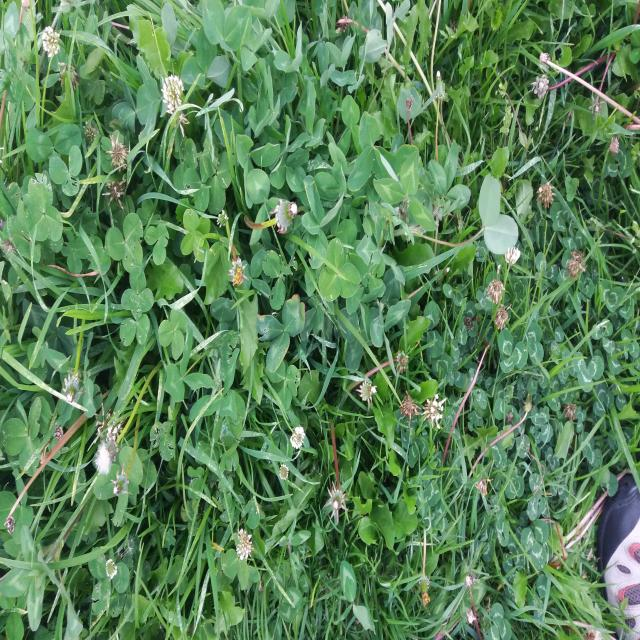Four Leaf Clover: (180, 208, 210, 262)
